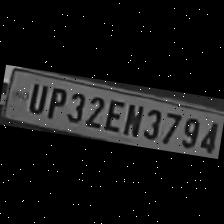2: (82, 92, 106, 128)
3: (139, 104, 164, 142), (63, 88, 86, 124)
4: (197, 117, 220, 154)
7: (158, 108, 181, 146)
9: (176, 112, 202, 150)
E: (101, 96, 124, 132)
N: (121, 99, 146, 138)
P: (42, 83, 68, 121)
U: (22, 80, 48, 116)
